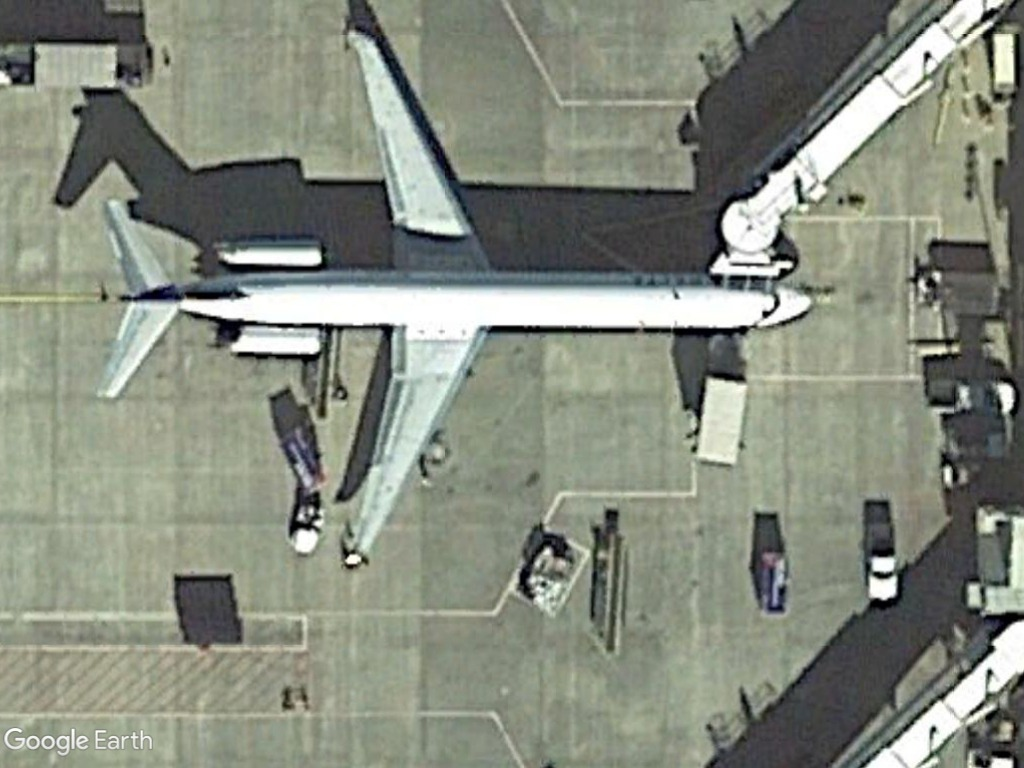chartered: (96, 23, 818, 571)
